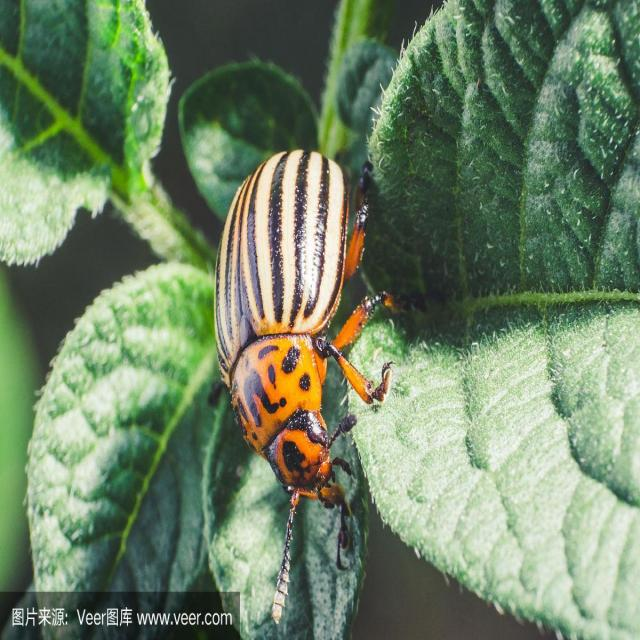ShuCaiHuaBanChong-Grown-: (212, 129, 385, 516)
